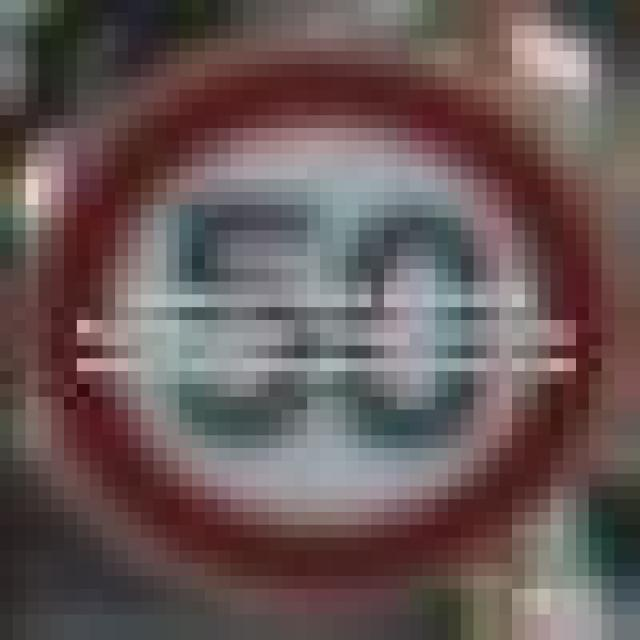SPEED_LIMIT_50: (26, 51, 588, 563)
